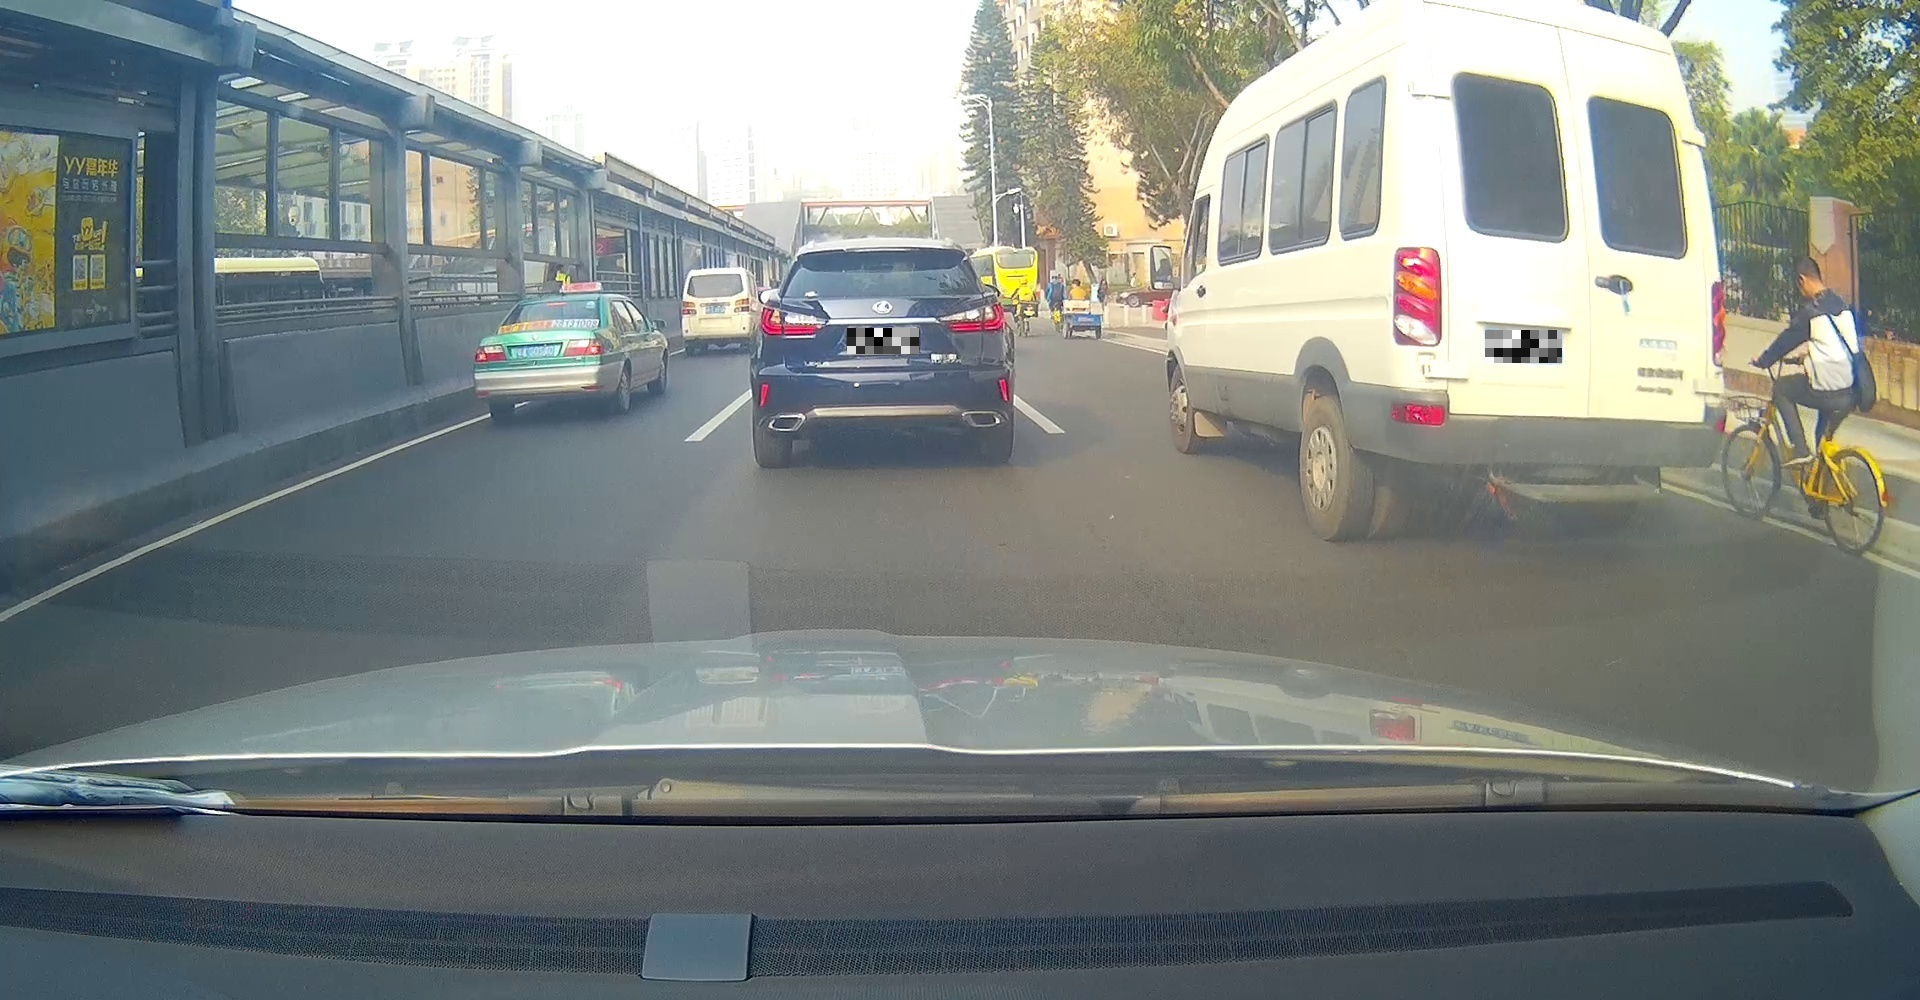L_light: (1393, 247, 1443, 346), (759, 306, 825, 335), (475, 344, 505, 362), (682, 301, 697, 315)
R_light: (941, 299, 1004, 332), (1710, 280, 1723, 365), (563, 338, 603, 357), (734, 298, 748, 312)
T_light: (1543, 25, 1585, 38), (869, 253, 900, 258), (546, 302, 568, 307), (710, 275, 721, 277)
day-brake: (474, 294, 604, 423)
day-no: (1388, 0, 1726, 539), (750, 242, 1013, 470), (681, 266, 749, 357)
plate_1: (847, 327, 919, 354)
plate_2: (1484, 330, 1562, 363)
